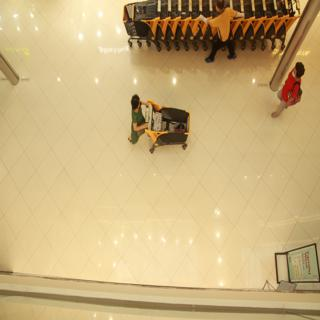person: (275, 55, 310, 128), (120, 87, 157, 151)
